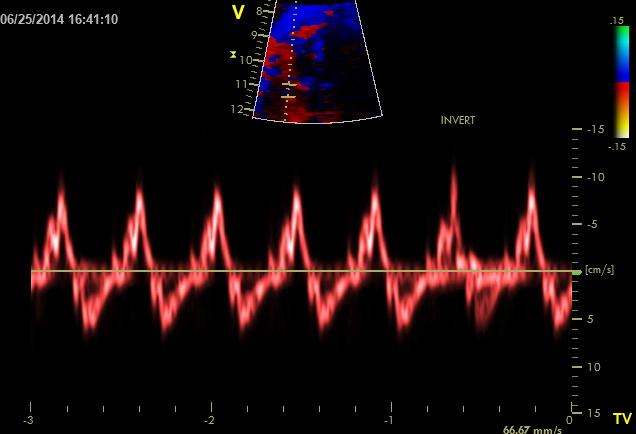Ultrasound-Waves: (33, 145, 570, 402)
